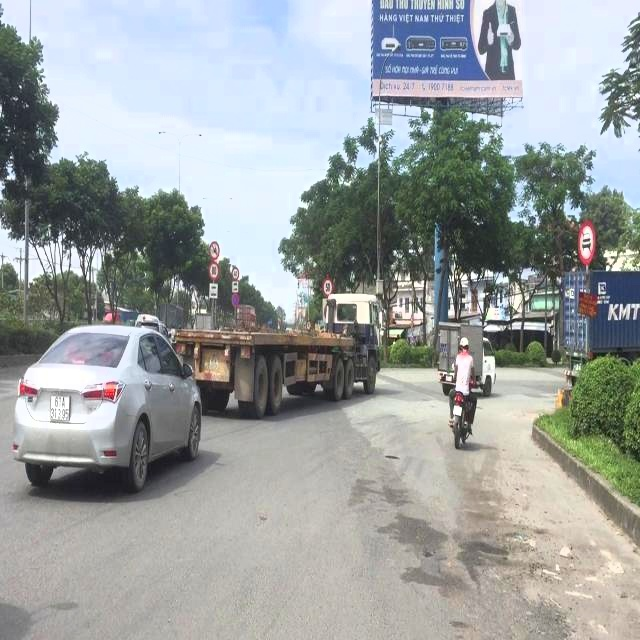P.103a: (575, 220, 600, 264)
